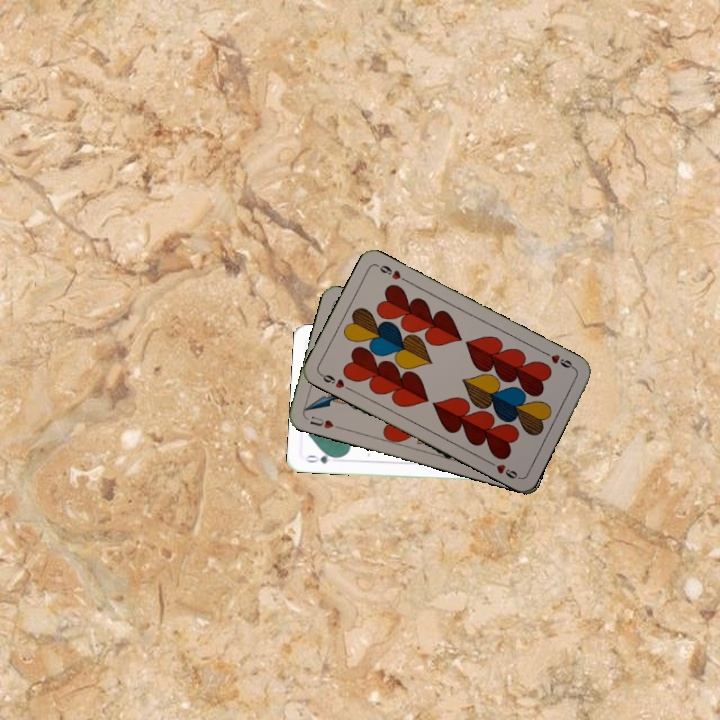GO: (302, 449, 342, 466)
H9: (540, 348, 578, 372), (316, 370, 354, 393)
HU: (306, 412, 343, 431)
